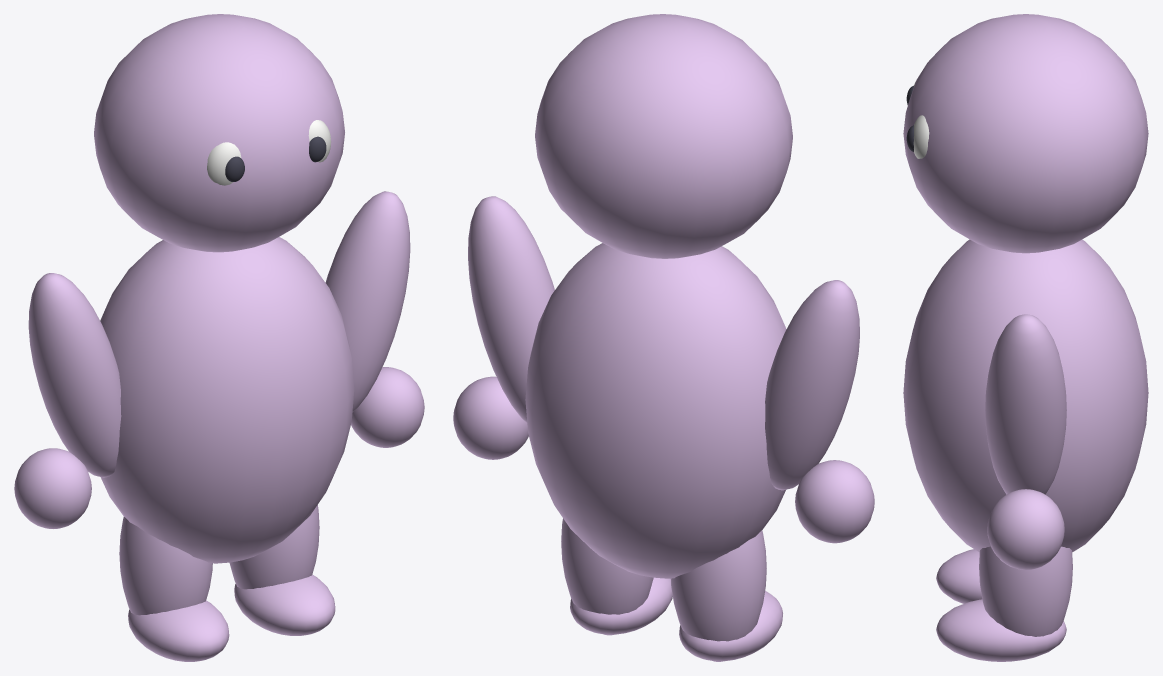
The model's file is avatar_test.glb.
3 views of the same model, side by side, from view 1: azimuth 30°, elevation 25°; view 2: azimuth 150°, elevation 25°; view 3: azimuth 270°, elevation 25° (orthographic). The views are drawn at different scales.
Parts seen in each view (by area): view 1: Body, Head, ArmL, ArmR, LegL, HandL, FootL, FootR, HandR, LegR, EyeWhiteL; view 2: Body, Head, ArmL, ArmR, LegL, HandL, LegR, HandR, FootL, FootR; view 3: Body, Head, ArmR, LegR, HandR, FootR, FootL, EyeWhiteR.
Part boxes in pixels (x1,y1,x2,y2): Body: (100,237,354,563); Head: (94,14,344,252); ArmL: (28,273,121,477); ArmR: (325,191,410,411); LegL: (119,517,212,615); HandL: (14,448,91,528); FootL: (128,600,229,661); FootR: (234,574,335,635); HandR: (351,367,424,447); LegR: (229,505,319,589); EyeWhiteL: (207,142,241,185); Body: (525,243,786,578); Head: (535,14,792,258); ArmL: (765,280,859,490); ArmR: (468,196,554,422); LegL: (671,530,766,661); HandL: (795,460,874,543); LegR: (561,518,653,635); HandR: (453,376,528,459); FootL: (679,591,782,661); FootR: (570,577,672,634); Body: (903,239,1148,551); Head: (903,14,1148,253); ArmR: (985,314,1066,494); LegR: (979,546,1072,636); HandR: (987,489,1064,569); FootR: (936,599,1066,661); FootL: (936,549,982,603); EyeWhiteR: (913,115,929,158).
Bounding box in the file's own units: 1.13 × 1.63 × 0.6.
